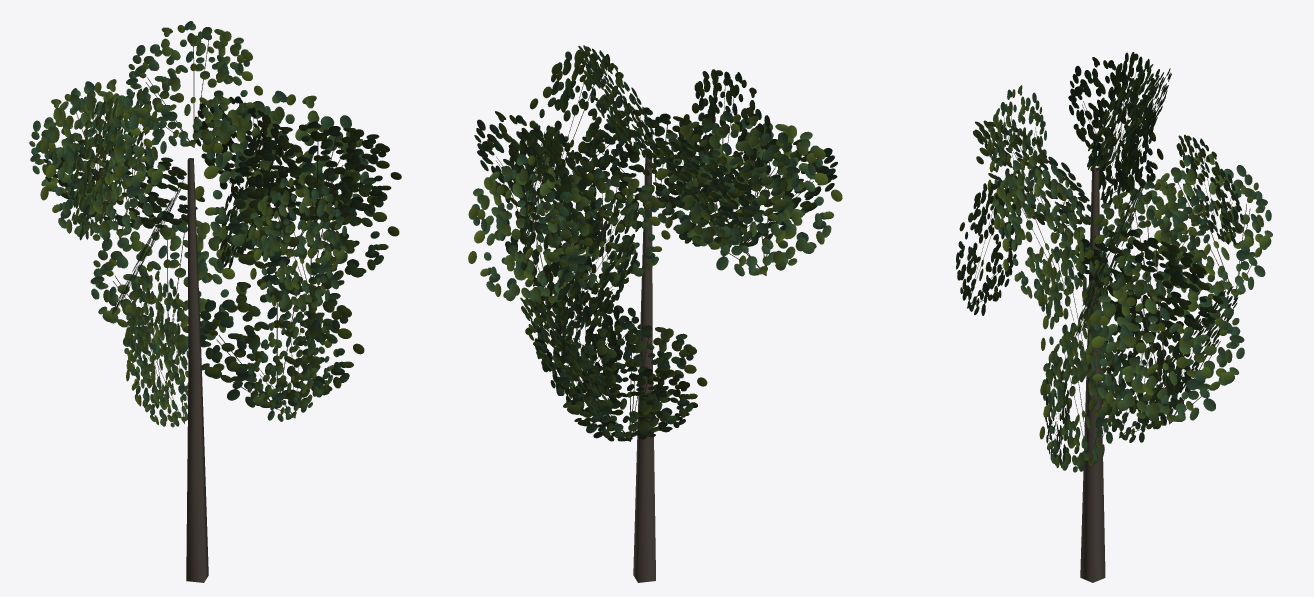
File: tpl_rec_bank_meadow_alder_lo.glb
3 renders of one model, left to right at view 1: azimuth 30°, elevation 25°; view 2: azimuth 150°, elevation 25°; view 3: azimuth 270°, elevation 25°, orthographic. The views are drawn at different scales.
Parts seen in each view (by area): view 1: tpl_rec_bank_meadow_alder_lo; view 2: tpl_rec_bank_meadow_alder_lo; view 3: tpl_rec_bank_meadow_alder_lo.
Part boxes in pixels (left/top/right/bottom): tpl_rec_bank_meadow_alder_lo: left=29, top=21, right=401, bottom=582; tpl_rec_bank_meadow_alder_lo: left=468, top=45, right=842, bottom=582; tpl_rec_bank_meadow_alder_lo: left=956, top=52, right=1272, bottom=582.
Size of the model in its own units: 10.3 by 15.46 by 11.1.
Materials: 2 (1 with a texture image).
